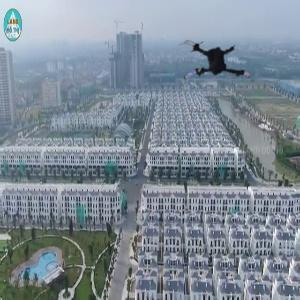drone: (172, 27, 252, 107)
